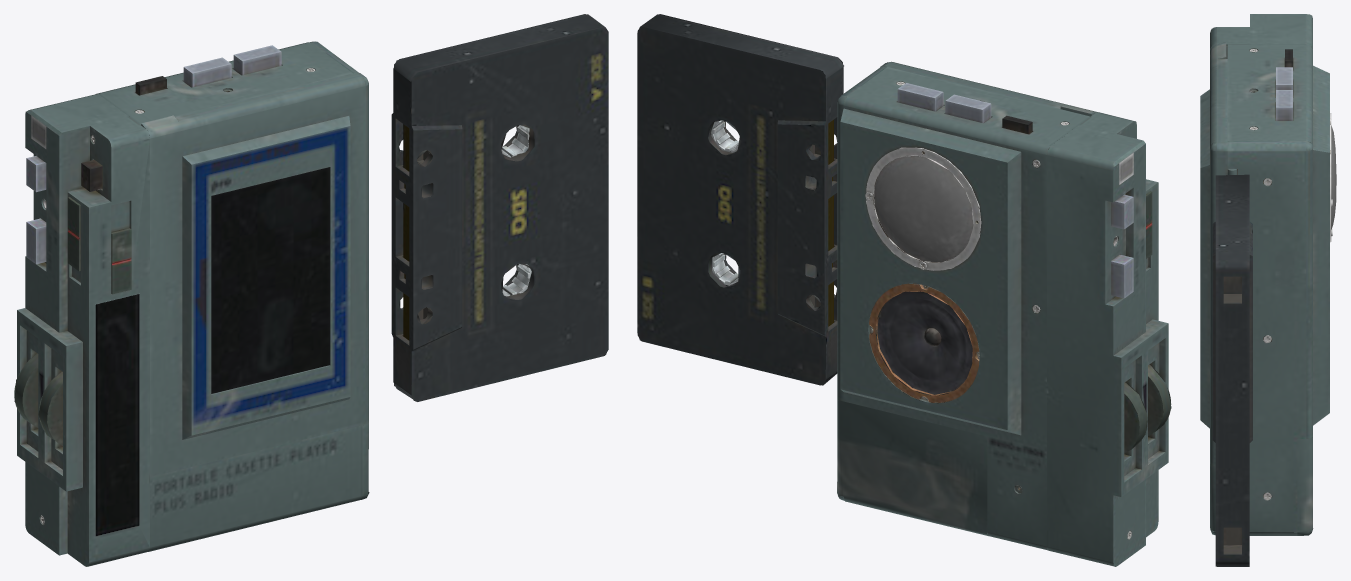
File: distance.fbx
The picture shows the model from 3 angles, left to right: view 1: azimuth 30°, elevation 25°; view 2: azimuth 150°, elevation 25°; view 3: azimuth 270°, elevation 25°; orthographic projection. The views are drawn at different scales.
Visible parts, largest first — view 1: portable_cassette_player, portable_cassette_player_lid, portable_cassette_player_casette; view 2: portable_cassette_player, portable_cassette_player_casette, portable_cassette_player_lid; view 3: portable_cassette_player, portable_cassette_player_casette, portable_cassette_player_lid.
Boxes of the visible parts, x1=… form: portable_cassette_player: x1=14, y1=41, x2=369, y2=566; portable_cassette_player_lid: x1=141, y1=72, x2=368, y2=476; portable_cassette_player_casette: x1=391, y1=14, x2=608, y2=401; portable_cassette_player: x1=837, y1=66, x2=1171, y2=566; portable_cassette_player_casette: x1=637, y1=14, x2=843, y2=385; portable_cassette_player_lid: x1=880, y1=61, x2=1097, y2=116; portable_cassette_player: x1=1210, y1=14, x2=1336, y2=535; portable_cassette_player_casette: x1=1212, y1=174, x2=1252, y2=566; portable_cassette_player_lid: x1=1200, y1=42, x2=1236, y2=465.
Size of the model in its own units: 17.24 by 13.03 by 3.97.
